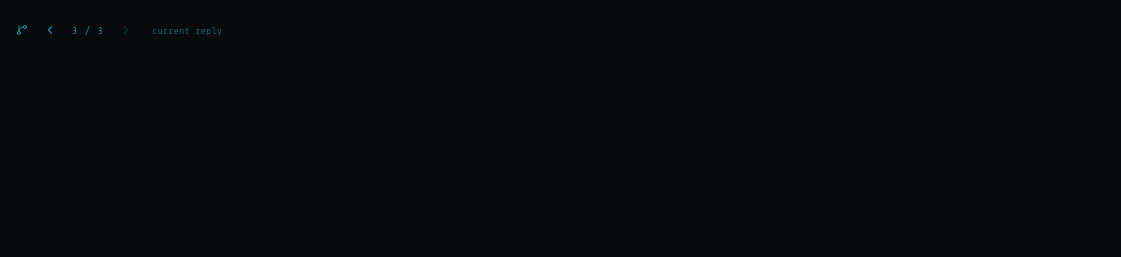
Test case: ReplySiblingPager › starts on the live reply and pages back to read-only earlier versions
Expected: the text with test id "reply-sibling-position" reads "3 / 3", 72,22 -> 104,38
Click the button named "Earlier version of this reply" at (50, 30), box 32,12 -> 68,48
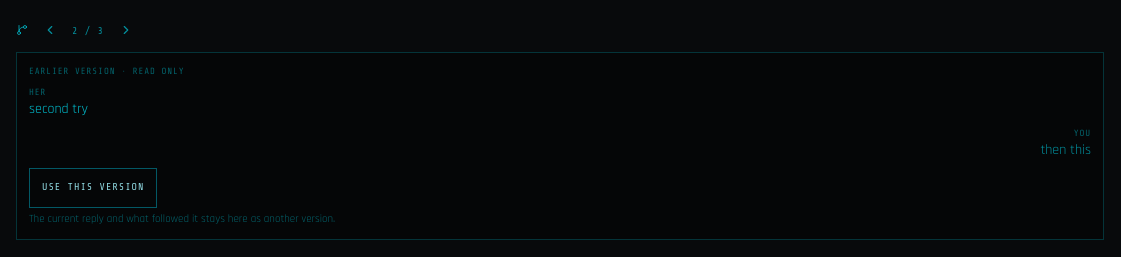
Expected: the text with test id "reply-sibling-position" reads "2 / 3", 72,22 -> 104,38
Expected: the element with test id "reply-sibling-preview" shows "second try", 29,100 -> 88,118
Expected: the element with test id "reply-sibling-preview" shows "then this", 1040,140 -> 1091,158
